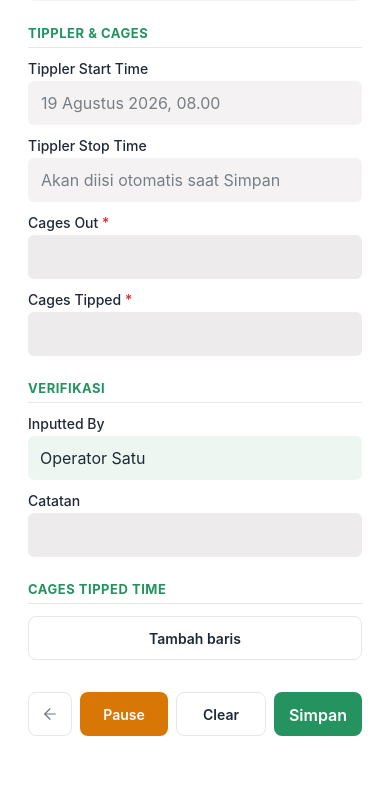
Test: FormCagesTrackView › computes cages_remain for a row as mill_setting.jumlah_cages minus that row's own total_cages
The image size is (390, 804).
(page scrolled)
Click the button with test id "add-tipped-time-row-button" at (195, 638), box [28,616,362,660]
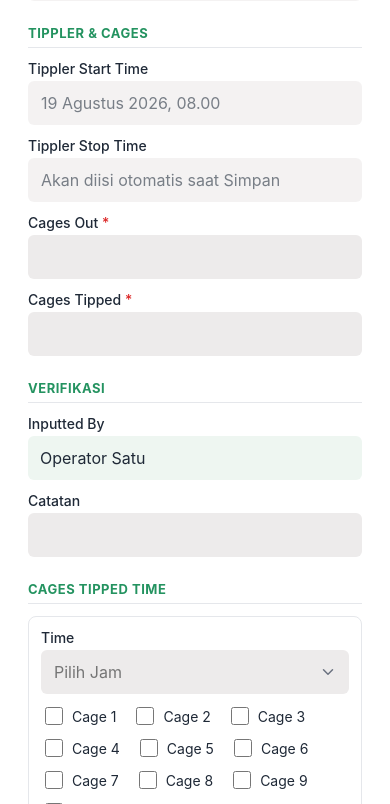
Click the checkbox with test id "cage-checkbox-0-1" at (54, 716), box [45,707,63,725]
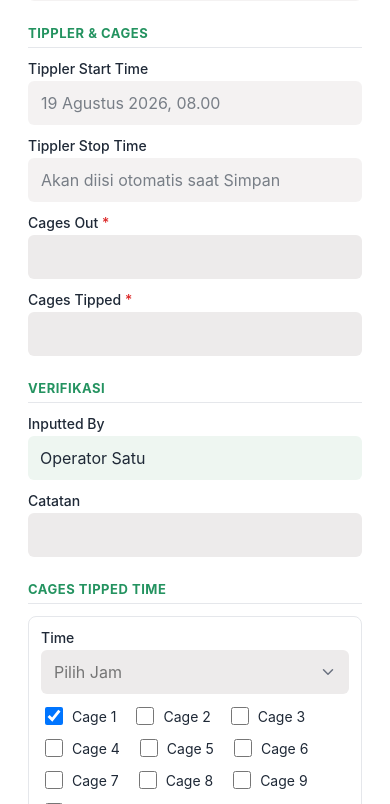
Click the checkbox with test id "cage-checkbox-0-2" at (146, 716), box [136,707,154,725]
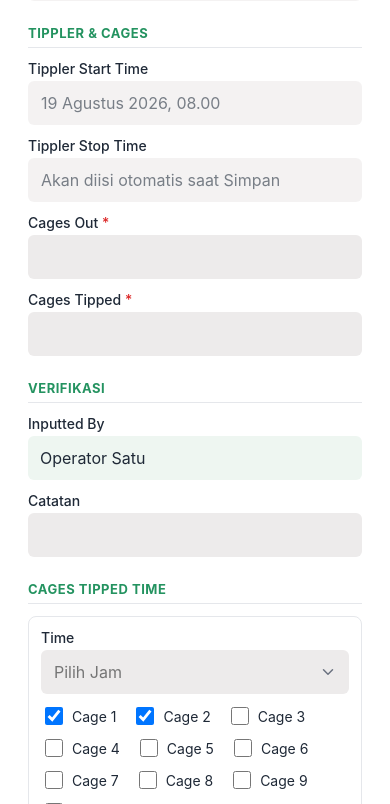
Click the checkbox with test id "cage-checkbox-0-3" at (240, 716), box [231,707,249,725]
(page scrolled)
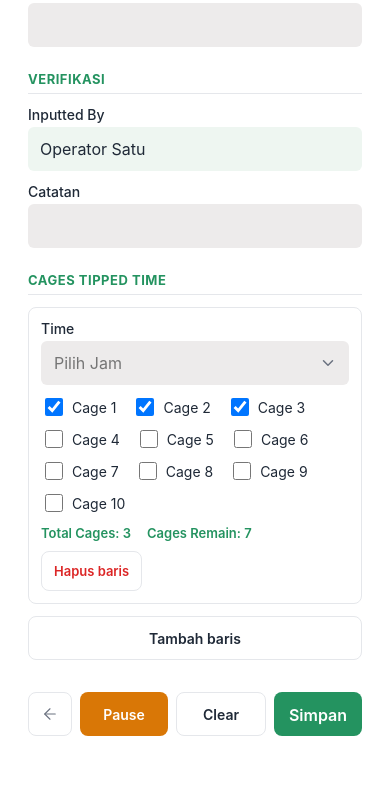
Check: the text with test id "row-total-cages-0" shows "3", box [41,525,131,541]
Check: the text with test id "row-cages-remain-0" shows "7", box [147,525,252,541]
